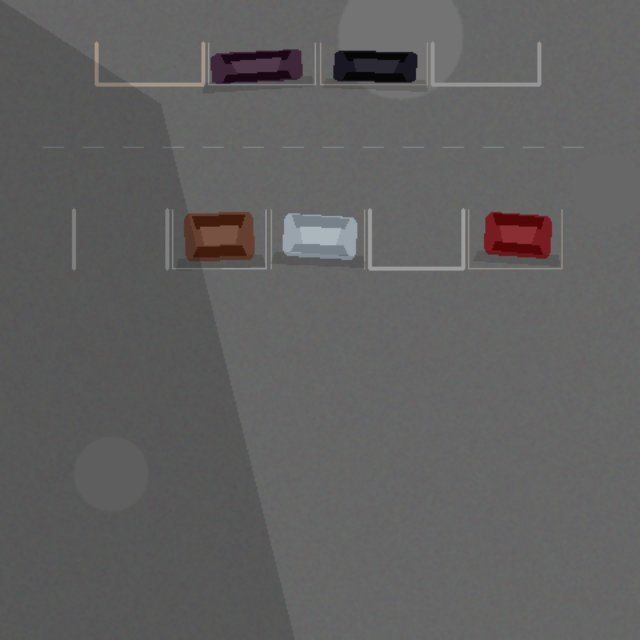space-empty: (73, 209, 167, 268), (369, 209, 463, 268), (96, 43, 203, 84), (432, 43, 539, 84)
space-occupied: (172, 209, 265, 268), (271, 209, 364, 268), (468, 209, 561, 268), (208, 43, 315, 84), (320, 43, 427, 84)
